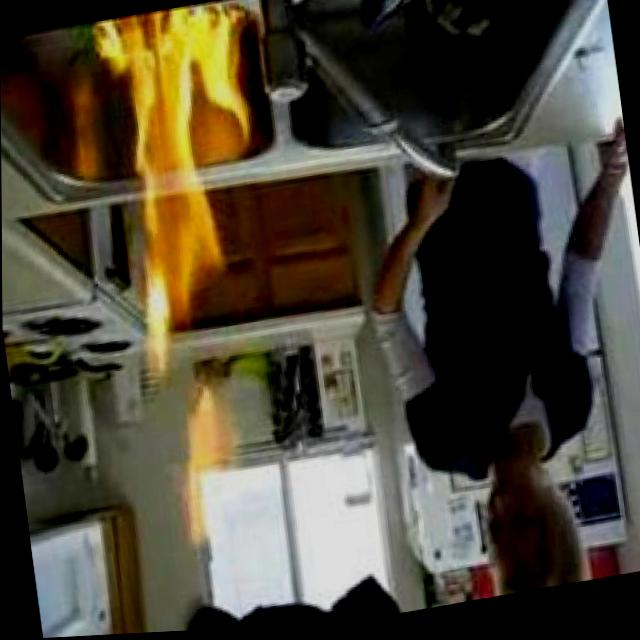Fire: (98, 0, 272, 348), (148, 364, 264, 557)
